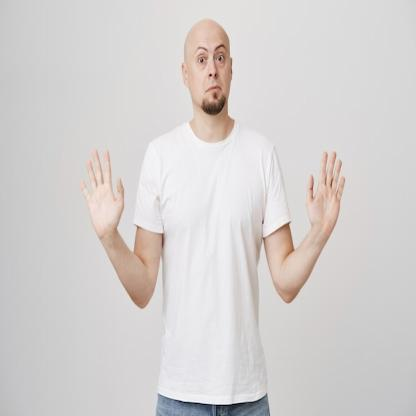stop: (76, 138, 128, 240), (305, 148, 348, 233)
